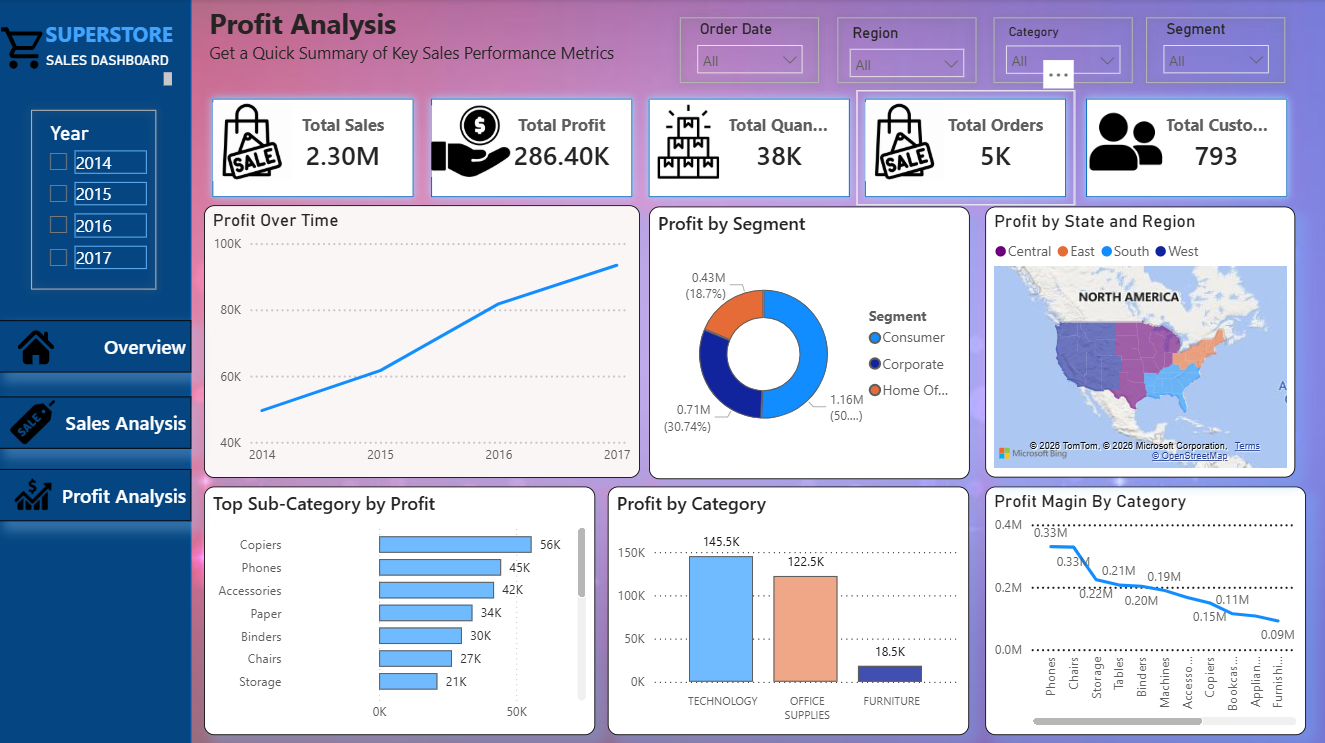

What the dashboard file says about the page in this screenshot:
{"tool":"powerbi","page":{"name":"Page 3","canvas":[1280,720],"ordinal":2},"visuals":[{"type":"shape","box":[0,0,185.9,720.2],"z":0},{"type":"shape","box":[649.3,9.8,150.4,79.5],"z":0,"group":"g2"},{"type":"group","id":"g1","title":"Group 5","box":[951.4,9.8,150.4,79.5],"z":0,"group":"g4"},{"type":"shape","box":[1099.3,9.8,150.4,79.5],"z":0,"group":"g11"},{"type":"shape","box":[23.2,99,137,189.5],"z":0,"group":"g10"},{"type":"slicer","fields":{"Values":["cleaned_superstore.Order Date"]},"box":[664,15.9,122.3,68.5],"z":1000,"group":"g2"},{"type":"slicer","fields":{"Values":["cleaned_superstore.Segment"]},"box":[1114,15.9,122.3,68.5],"z":1000,"group":"g11"},{"type":"slicer","fields":{"Values":["cleaned_superstore.Category"]},"box":[960.8,19.5,130.8,59.9],"z":1000,"group":"g4"},{"type":"textbox","title":"SALES DASHBOARD","box":[23.2,47.7,149.2,40.4],"z":1000},{"type":"slicer","fields":{"Values":["cleaned_superstore.Year"]},"box":[36.6,113.6,111.3,163.3],"z":1000,"group":"g10"},{"type":"image","box":[0,19.6,47.7,56.3],"z":2000},{"type":"textbox","box":[198.1,0,507.5,88],"z":3000},{"type":"group","id":"g2","title":"Group 3","box":[649.3,9.8,150.4,79.5],"z":4000},{"type":"shape","box":[801,9.8,150.4,79.5],"z":4000,"group":"g3"},{"type":"shape","box":[951.4,9.8,150.4,79.5],"z":4000,"group":"g1"},{"type":"group","id":"g3","title":"Group 5","box":[801,9.8,150.4,79.5],"z":5000},{"type":"group","id":"g4","title":"Group 1","box":[951.4,9.8,150.4,79.5],"z":6000},{"type":"group","id":"g5","title":"Group 2","box":[198.1,88,210.3,111.3],"z":7000},{"type":"shape","box":[198.1,88,210.3,111.3],"z":7000,"group":"g5"},{"type":"shape","box":[408.4,88,210.3,111.3],"z":7000,"group":"g6"},{"type":"shape","box":[618.8,88,210.3,111.3],"z":7000,"group":"g7"},{"type":"shape","box":[827.9,88,210.3,111.3],"z":7000,"group":"g8"},{"type":"shape","box":[1040.6,88,210.3,111.3],"z":7000,"group":"g9"},{"type":"slicer","fields":{"Values":["cleaned_superstore.Region"]},"box":[810.8,19.6,130.8,57.5],"z":7001,"group":"g3"},{"type":"group","id":"g6","title":"Group 2","box":[408.4,88,210.3,111.3],"z":8000},{"type":"cardVisual","fields":{"Data":["cleaned_superstore.Total Sales"]},"box":[265.4,99,133.3,79.5],"z":8000,"group":"g5"},{"type":"cardVisual","fields":{"Data":["cleaned_superstore.Total Profit"]},"box":[475.7,99,133.3,79.5],"z":8000,"group":"g6"},{"type":"cardVisual","fields":{"Data":["cleaned_superstore.Total Quantity"]},"box":[686.1,99,133.3,79.5],"z":8000,"group":"g7"},{"type":"cardVisual","fields":{"Data":["cleaned_superstore.Total Orders"]},"box":[895.2,99,133.3,79.5],"z":8000,"group":"g8"},{"type":"cardVisual","fields":{"Data":["cleaned_superstore.Total Customer"]},"box":[1107.9,99,133.3,79.5],"z":8000,"group":"g9"},{"type":"group","id":"g7","title":"Group 2","box":[618.8,88,210.3,111.3],"z":9000},{"type":"image","box":[206.7,96.6,75.8,81.9],"z":9000,"group":"g5"},{"type":"image","box":[417,96.6,75.8,81.9],"z":9000,"group":"g6"},{"type":"image","box":[627.4,96.6,75.8,81.9],"z":9000,"group":"g7"},{"type":"image","box":[836.5,96.6,75.8,81.9],"z":9000,"group":"g8"},{"type":"image","box":[1049.2,96.6,75.8,81.9],"z":9000,"group":"g9"},{"type":"group","id":"g8","title":"Group 2","box":[827.9,88,210.3,111.3],"z":10000},{"type":"group","id":"g9","title":"Group 2","box":[1040.6,88,210.3,111.3],"z":11000},{"type":"lineChart","title":"Profit Over Time","fields":{"Category":["cleaned_superstore.Year"],"Y":["cleaned_superstore.Total Profit"]},"box":[198.1,199.3,420.7,262.9],"z":12000},{"type":"group","id":"g10","title":"Group 3","box":[23.2,99,137,189.5],"z":13000},{"type":"donutChart","title":"Profit by Segment","fields":{"Y":["Sum(cleaned_superstore.Sales)"],"Category":["cleaned_superstore.Segment"]},"box":[627.3,200.5,309.4,262.9],"z":14000},{"type":"barChart","title":"Top Sub-Category by Profit","fields":{"Category":["cleaned_superstore.Sub-Category"],"Y":["Sum(cleaned_superstore.Profit)"]},"box":[198.1,470.8,377.9,239.7],"z":15000},{"type":"clusteredColumnChart","title":"Profit by Category","fields":{"Y":["cleaned_superstore.Total Profit"],"Category":["cleaned_superstore.Category"]},"box":[587,470.8,348.5,239.7],"z":16000},{"type":"lineChart","title":"Profit Magin By Category","fields":{"Y":["cleaned_superstore.Total Sales"],"Category":["cleaned_superstore.Sub-Category"]},"box":[951.4,470.8,309.4,239.7],"z":17000},{"type":"filledMap","title":"Profit by State and Region","fields":{"Category":["cleaned_superstore.State"],"Series":["cleaned_superstore.Region"]},"box":[951.4,200.5,299.6,261.7],"z":18000},{"type":"actionButton","box":[0,310.6,185.9,50.1],"z":19000},{"type":"actionButton","box":[0,384,185.9,50.1],"z":20000},{"type":"actionButton","box":[0,453.7,185.9,50.1],"z":21000},{"type":"group","id":"g11","title":"Group 3","box":[1099.3,9.8,150.4,79.5],"z":22000},{"type":"image","box":[15.9,317.9,40.4,35.5],"z":23000},{"type":"image","box":[8.6,387.6,47.7,42.8],"z":24000},{"type":"image","box":[12.2,458.6,41.6,42.8],"z":25000}]}

Visuals, with their boxes in screenshot pixels (x1, y1, x2, y2), scaled from the page's 1280x720 canvas onto the 1325x743 screenshot:
shape: box(0, 0, 192, 742)
shape: box(672, 10, 828, 92)
"Group 5" group: box(985, 10, 1141, 92)
shape: box(1138, 10, 1294, 92)
shape: box(24, 102, 166, 298)
slicer - cleaned_superstore.Order Date: box(687, 16, 814, 87)
slicer - cleaned_superstore.Segment: box(1153, 16, 1280, 87)
slicer - cleaned_superstore.Category: box(995, 20, 1130, 82)
"SALES DASHBOARD" textbox: box(24, 49, 178, 91)
slicer - cleaned_superstore.Year: box(38, 117, 153, 286)
image: box(0, 20, 49, 78)
textbox: box(205, 0, 730, 91)
"Group 3" group: box(672, 10, 828, 92)
shape: box(829, 10, 985, 92)
shape: box(985, 10, 1141, 92)
"Group 5" group: box(829, 10, 985, 92)
"Group 1" group: box(985, 10, 1141, 92)
"Group 2" group: box(205, 91, 423, 206)
shape: box(205, 91, 423, 206)
shape: box(423, 91, 640, 206)
shape: box(641, 91, 858, 206)
shape: box(857, 91, 1075, 206)
shape: box(1077, 91, 1295, 206)
slicer - cleaned_superstore.Region: box(839, 20, 975, 80)
"Group 2" group: box(423, 91, 640, 206)
cardVisual - cleaned_superstore.Total Sales: box(275, 102, 413, 184)
cardVisual - cleaned_superstore.Total Profit: box(492, 102, 630, 184)
cardVisual - cleaned_superstore.Total Quantity: box(710, 102, 848, 184)
cardVisual - cleaned_superstore.Total Orders: box(927, 102, 1065, 184)
cardVisual - cleaned_superstore.Total Customer: box(1147, 102, 1285, 184)
"Group 2" group: box(641, 91, 858, 206)
image: box(214, 100, 292, 184)
image: box(432, 100, 510, 184)
image: box(649, 100, 728, 184)
image: box(866, 100, 944, 184)
image: box(1086, 100, 1165, 184)
"Group 2" group: box(857, 91, 1075, 206)
"Group 2" group: box(1077, 91, 1295, 206)
"Profit Over Time" lineChart: box(205, 206, 641, 477)
"Group 3" group: box(24, 102, 166, 298)
"Profit by Segment" donutChart: box(649, 207, 970, 478)
"Top Sub-Category by Profit" barChart: box(205, 486, 596, 733)
"Profit by Category" clusteredColumnChart: box(608, 486, 968, 733)
"Profit Magin By Category" lineChart: box(985, 486, 1305, 733)
"Profit by State and Region" filledMap: box(985, 207, 1295, 477)
actionButton: box(0, 321, 192, 372)
actionButton: box(0, 396, 192, 448)
actionButton: box(0, 468, 192, 520)
"Group 3" group: box(1138, 10, 1294, 92)
image: box(16, 328, 58, 365)
image: box(9, 400, 58, 444)
image: box(13, 473, 56, 517)
